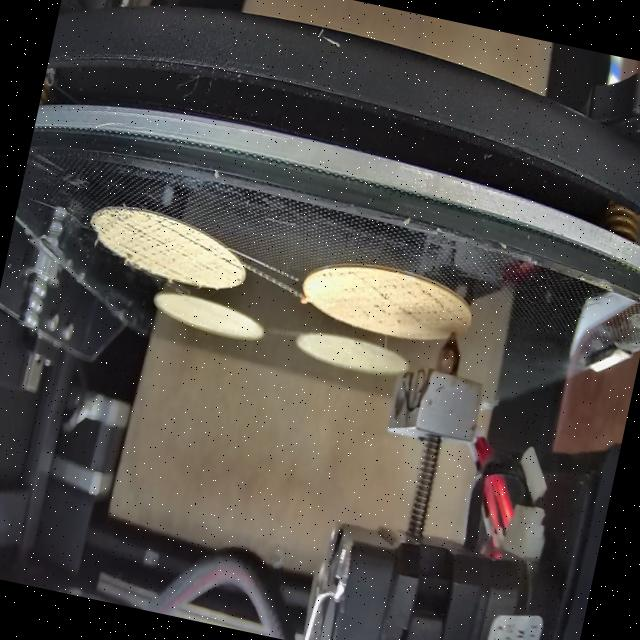under_extrusion: (88, 208, 220, 286), (350, 272, 476, 346), (314, 258, 353, 297), (214, 251, 250, 278)
